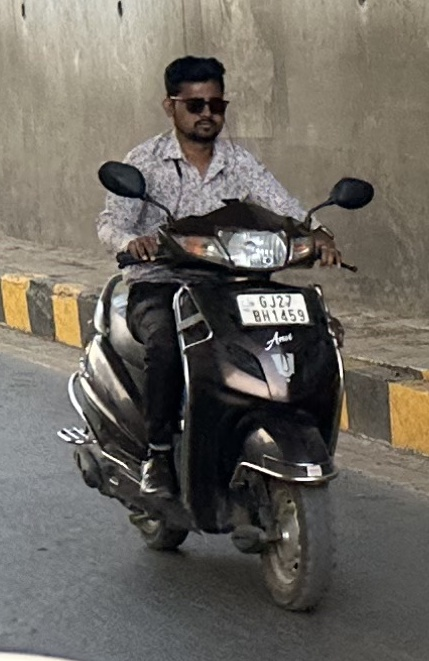BikeWithRider: (52, 52, 376, 614)
NoHelmet: (156, 55, 234, 141)
